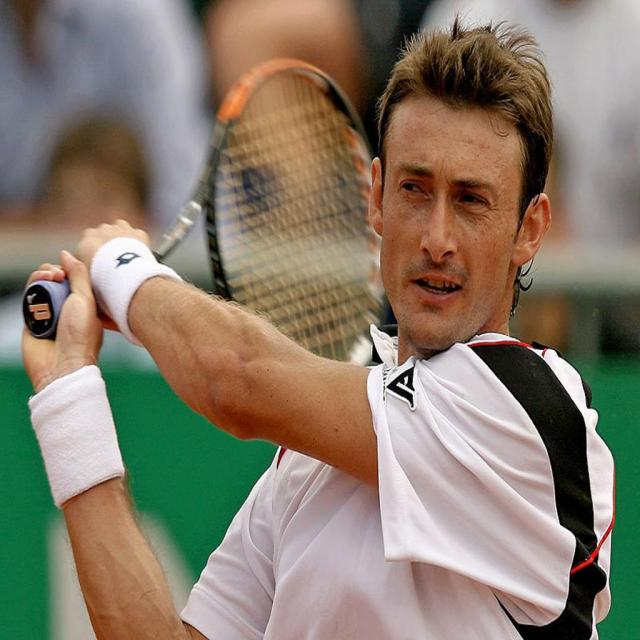Face: (371, 76, 539, 359)
